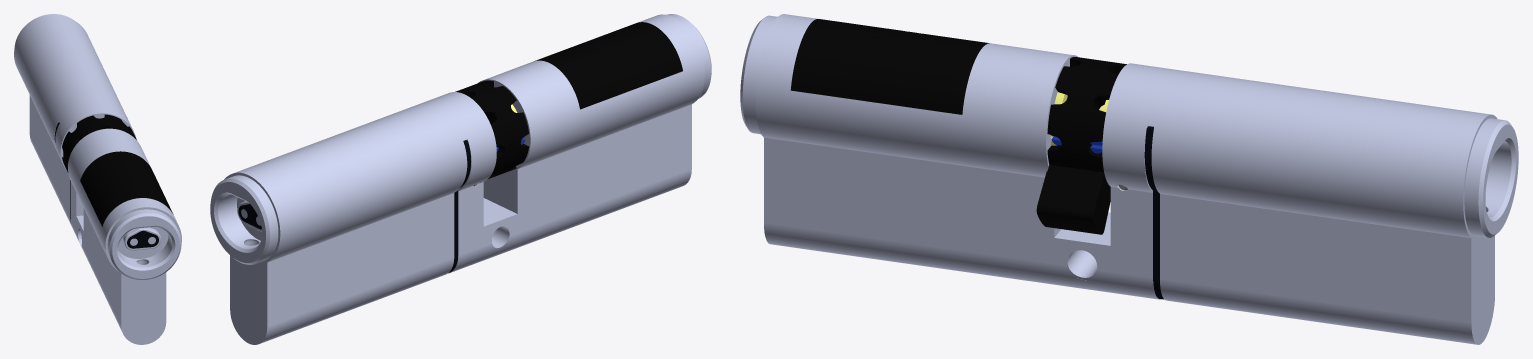
File: INIGMA KEY EURO.fbx
3 renders of one model, left to right at view 1: azimuth 30°, elevation 25°; view 2: azimuth 150°, elevation 25°; view 3: azimuth 270°, elevation 25°, orthographic. The views are drawn at different scales.
Visible parts, largest first — view 1: P12524, P12366 (×2), P12359 (×2), P12394, P11323; view 2: P12524, P12366 (×2), P12359 (×2), P12394, P11000; view 3: P12524, P12366 (×2), P12394, P12359 (×2), P11000.
Boxes of the visible parts, box(x1,y1,x2,y2) form: P12524: box(14, 15, 181, 344); P12366 (×2): box(80, 151, 173, 226); P12359 (×2): box(14, 14, 181, 279); P12394: box(62, 114, 136, 172); P11323: box(127, 230, 158, 248); P12524: box(224, 14, 704, 344); P12366 (×2): box(534, 22, 682, 109); P12359 (×2): box(210, 14, 711, 264); P12394: box(455, 80, 528, 178); P11000: box(449, 140, 470, 272); P12524: box(755, 14, 1497, 344); P12366 (×2): box(790, 19, 989, 114); P12394: box(1036, 57, 1126, 234); P12359 (×2): box(740, 15, 1518, 237); P11000: box(1144, 126, 1163, 299).
Bounding box in the file's own units: 48.51 × 33 × 105.
